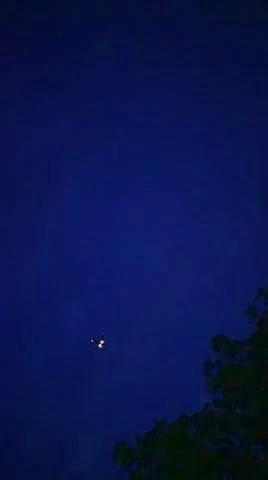Plane: (83, 328, 112, 356)
